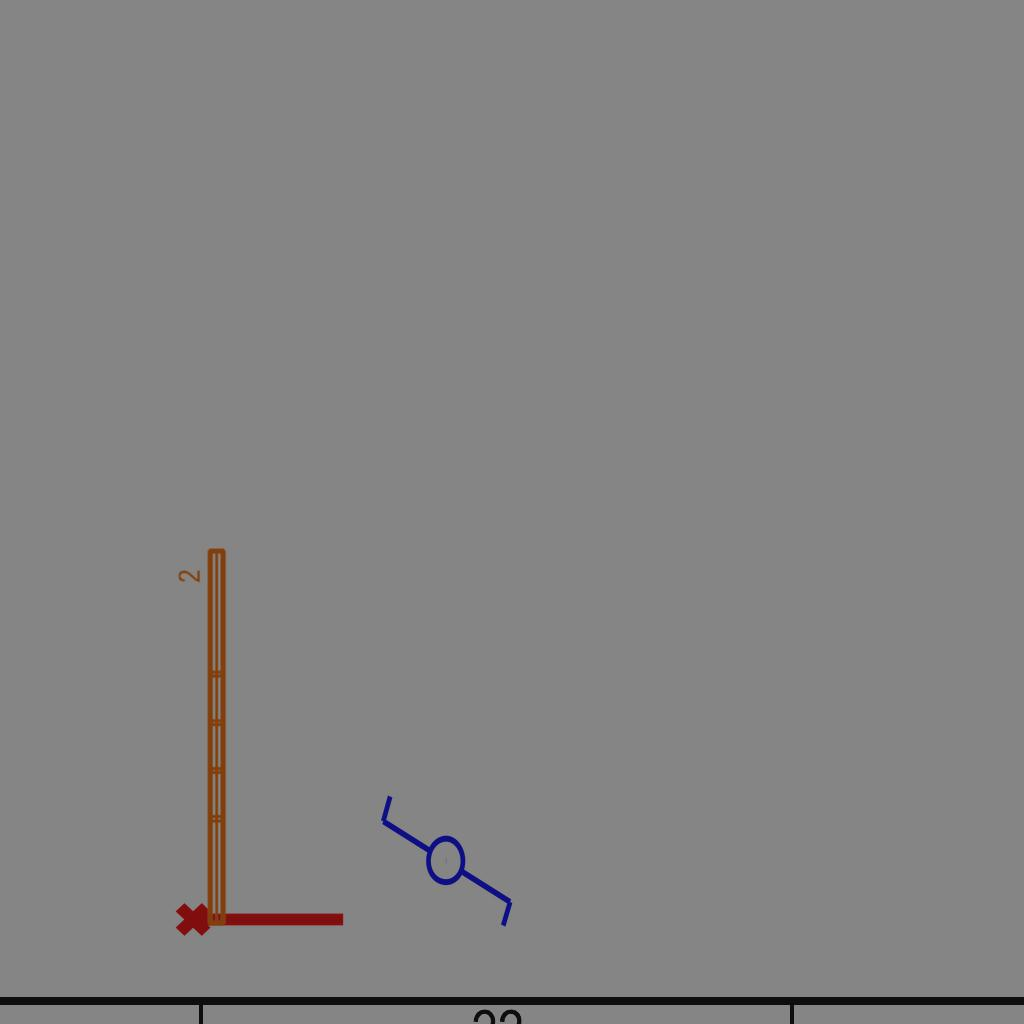ASR_Ansaugoeffnung: (173, 894, 349, 940)
Ambulanz_Pendelleuchte_LED: (176, 544, 232, 931)
Wechselschalter: (376, 774, 520, 931)
